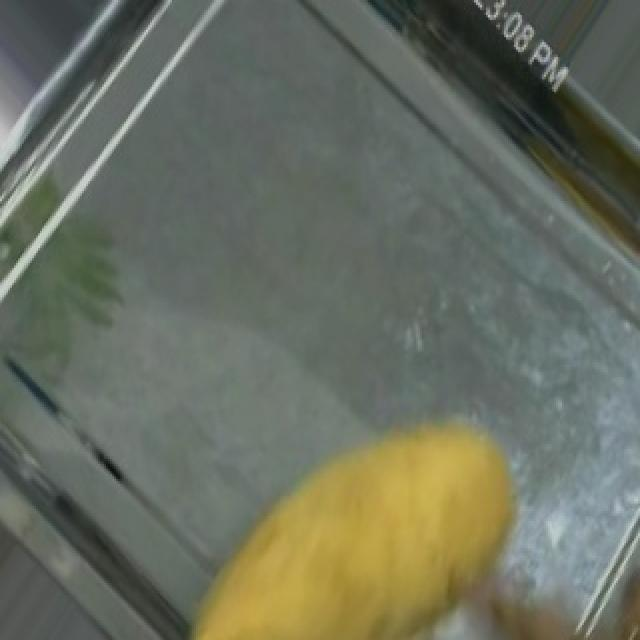fruit: (182, 364, 580, 640)
